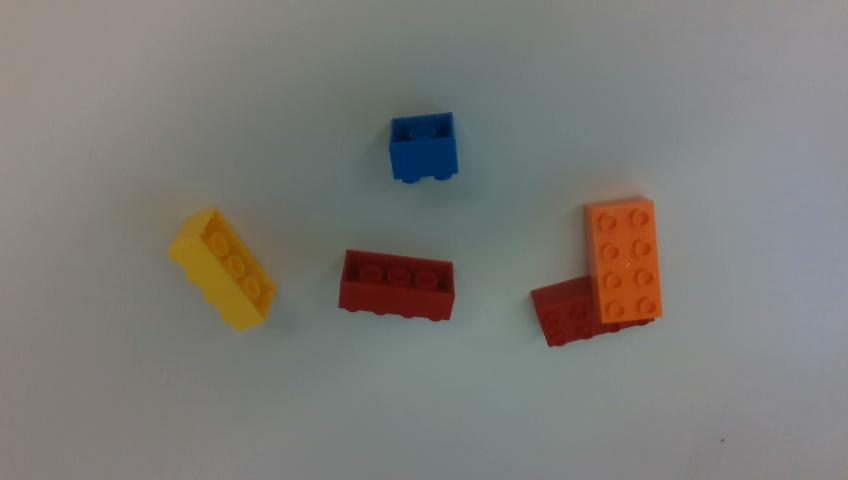2x2_blue: (389, 113, 458, 183)
4x2_orange: (585, 197, 659, 321)
4x2_red: (533, 275, 653, 346), (339, 250, 454, 320)
4x2_yellow: (170, 208, 275, 330)
